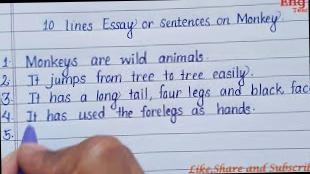text: (26, 78, 310, 112), (41, 9, 285, 41), (25, 99, 256, 127), (27, 63, 255, 91), (25, 47, 210, 78), (187, 159, 310, 173), (0, 109, 14, 122), (1, 91, 13, 106), (2, 127, 14, 141), (279, 0, 306, 6), (2, 54, 12, 68), (0, 74, 11, 86), (292, 6, 308, 12)
